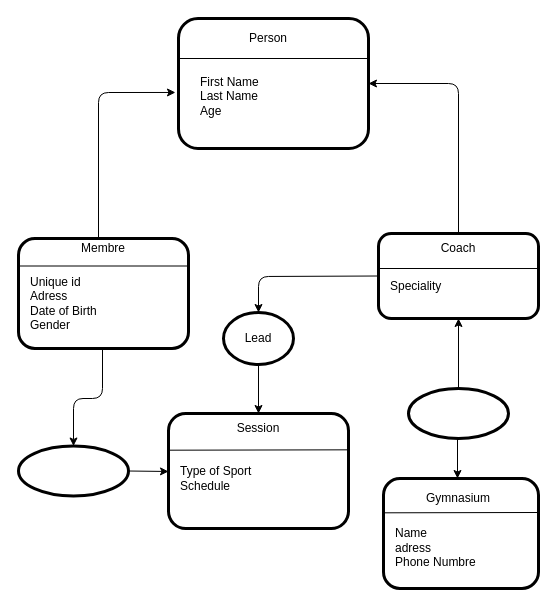
The diagram is 557 pixels wide and 607 high, and some of its shapes have lost their labels. Here are the shapes that lost their labels. From the top down, the centre of each, then its label:
the point at 458,413: Works
the point at 73,470: Register
